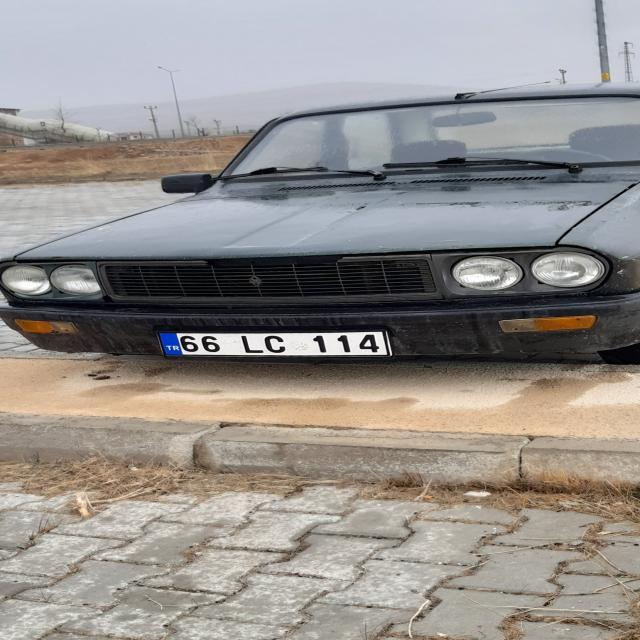plate: (155, 331, 389, 356)
